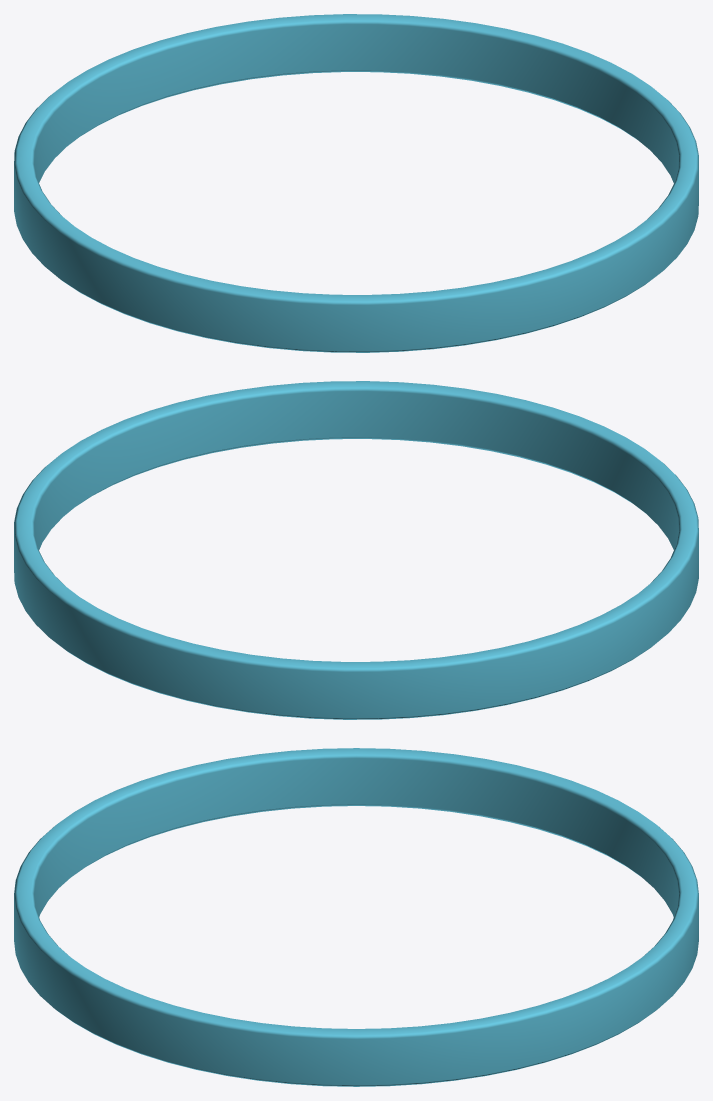
3 renders of one model, top to bottom at view 1: azimuth 30°, elevation 25°; view 2: azimuth 150°, elevation 25°; view 3: azimuth 270°, elevation 25°, orthographic.
Visible parts, largest first — view 1: seal_body; view 2: seal_body; view 3: seal_body.
Boxes of the visible parts, x1=… form: seal_body: x1=14, y1=14, x2=698, y2=352; seal_body: x1=14, y1=381, x2=698, y2=719; seal_body: x1=14, y1=748, x2=698, y2=1086.
Bounding box in the file's own units: 0.189 × 0.0159 × 0.189.
